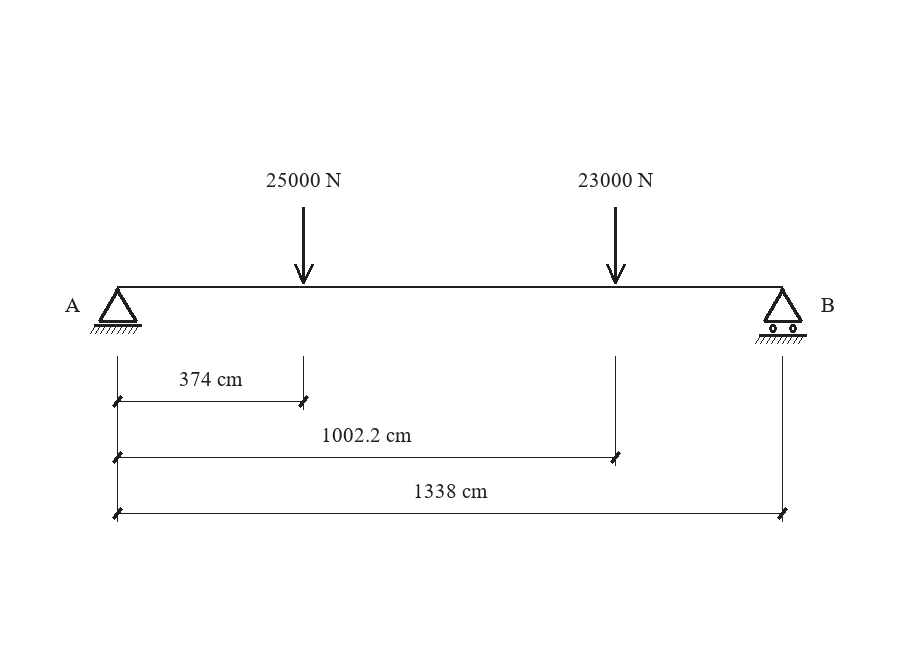pin_support: (90, 288, 142, 334)
point_load: (294, 207, 314, 284), (606, 207, 626, 284)
roller_support: (755, 288, 807, 344)
